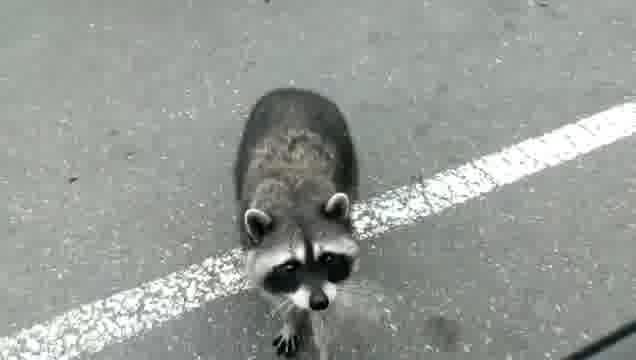raccoon: (233, 84, 371, 360)
